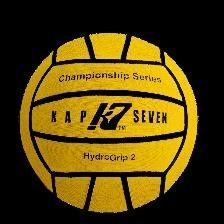Sports-Ball: (24, 32, 197, 214)
